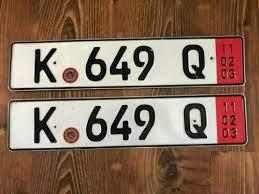4: (109, 102, 133, 142), (109, 44, 132, 83)
6: (83, 102, 108, 144), (83, 45, 107, 83)
9: (133, 101, 157, 142), (131, 44, 156, 83)
K: (32, 104, 58, 146), (32, 47, 59, 84)
Q: (181, 100, 209, 140), (180, 42, 207, 80)
